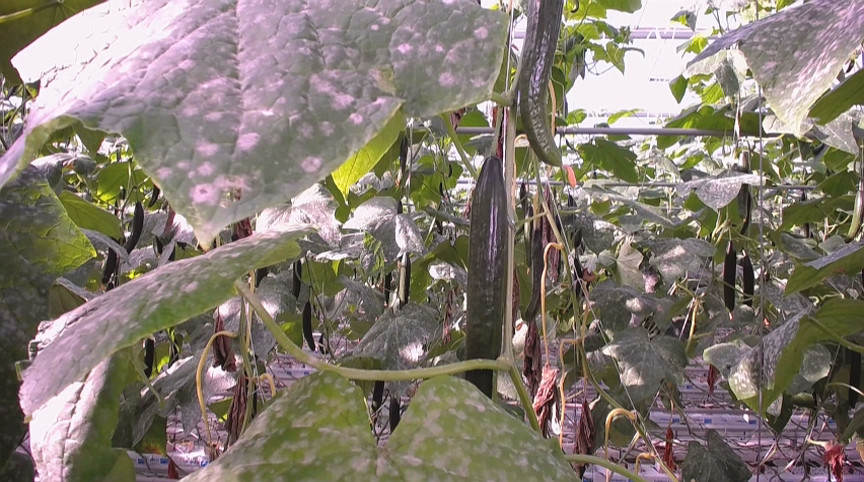cucumber: (469, 157, 507, 398), (518, 1, 564, 168), (124, 201, 145, 254), (845, 187, 864, 244), (723, 241, 738, 311), (743, 256, 756, 308), (302, 301, 315, 352), (400, 253, 412, 306)
